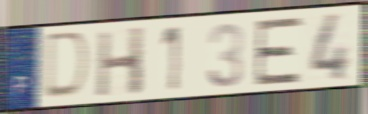1: (159, 23, 183, 93)
3: (206, 21, 245, 89)
4: (307, 12, 354, 84)
D: (41, 29, 93, 102)
E: (252, 14, 305, 88)
H: (95, 24, 147, 99)
